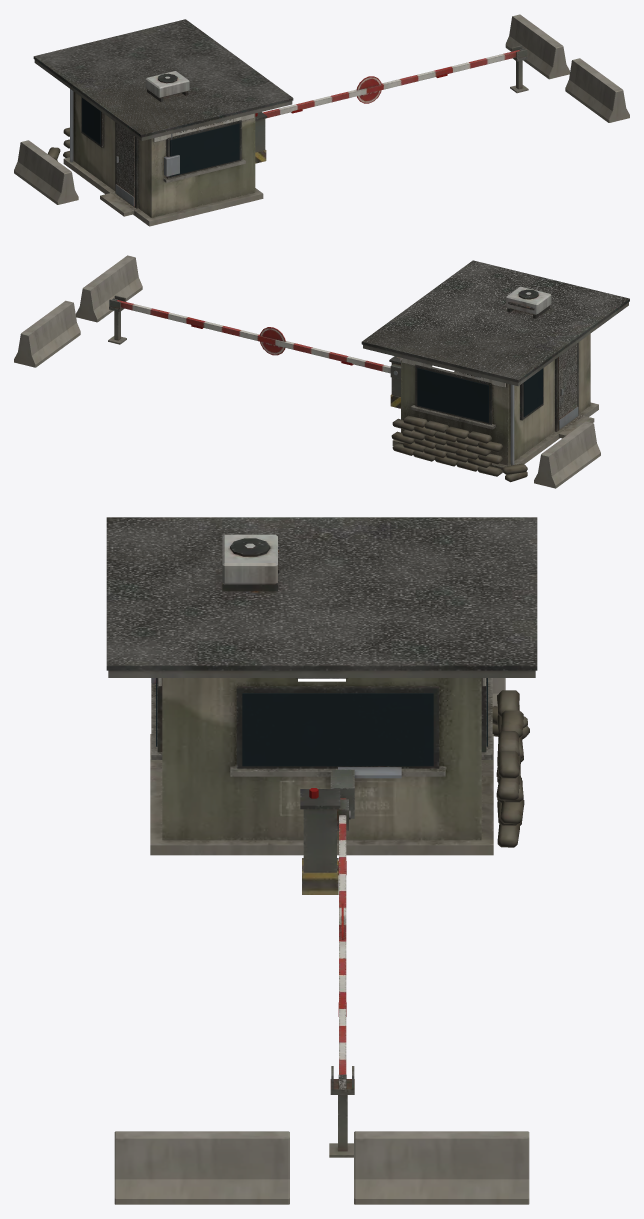
The model's file is base_guard_post.glb.
3 renders of one model, top to bottom at view 1: azimuth 30°, elevation 25°; view 2: azimuth 150°, elevation 25°; view 3: azimuth 270°, elevation 25°, orthographic. The views are drawn at different scales.
Parts seen in each view (by area): view 1: lod0, barrier_arm; view 2: lod0, barrier_arm; view 3: lod0, barrier_arm.
Part boxes in pixels (<box>): lod0: <box>14,14,629,226</box>; barrier_arm: <box>262,48,524,118</box>; lod0: <box>14,255,629,488</box>; barrier_arm: <box>112,298,400,379</box>; lod0: <box>106,517,537,1204</box>; barrier_arm: <box>330,769,354,1089</box>.
Size of what is drawn, in the model's own units: 15.02 by 3.33 by 5.4.
3 materials, 1 textured.
